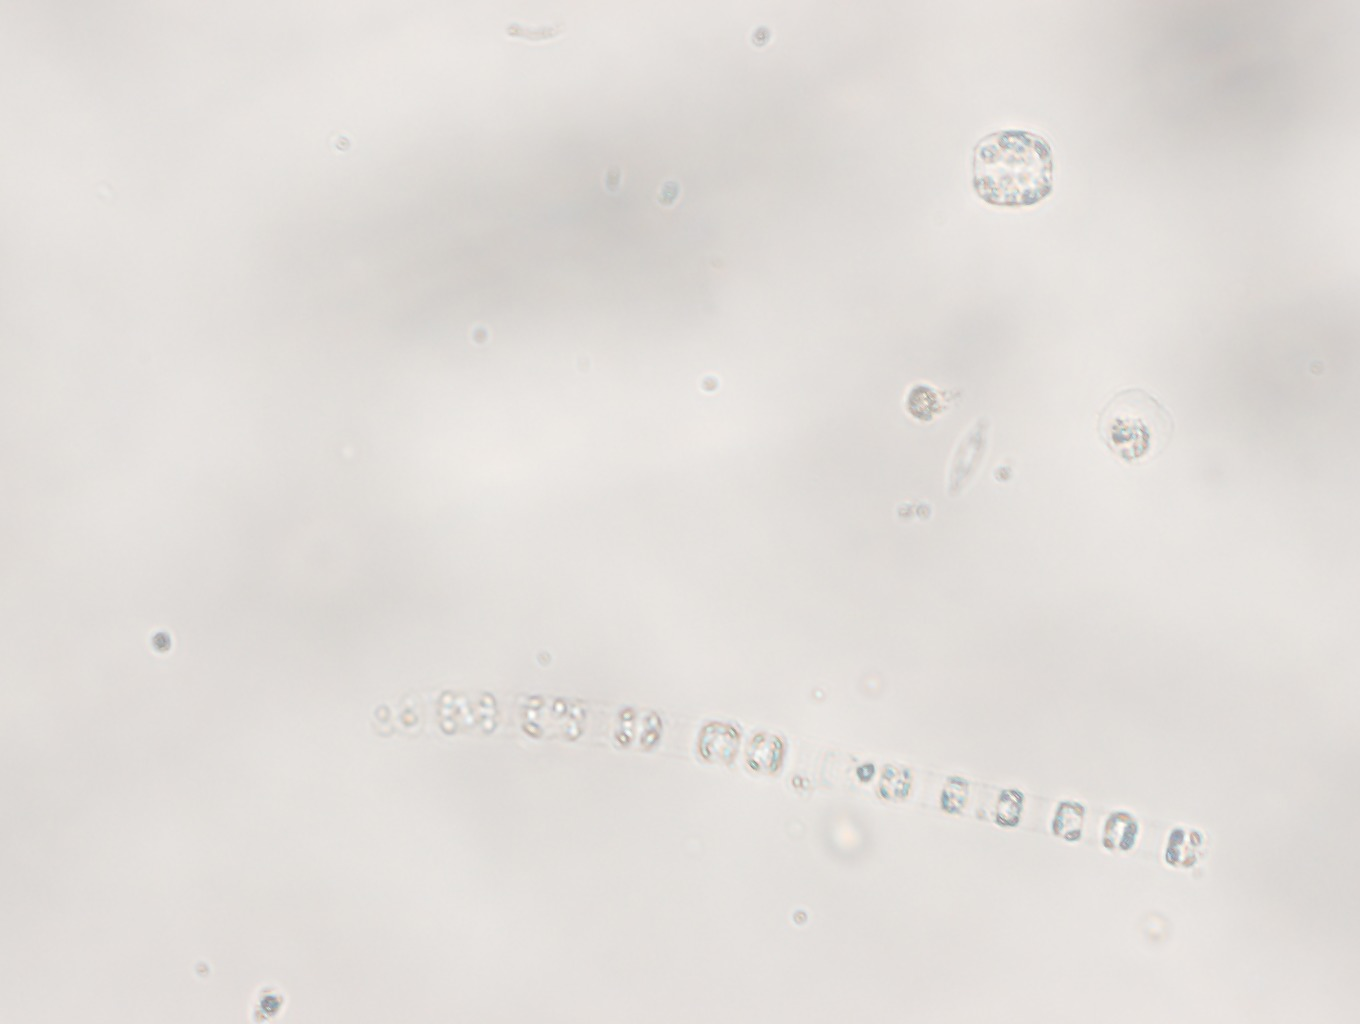skeletonema: (370, 691, 1208, 876)
